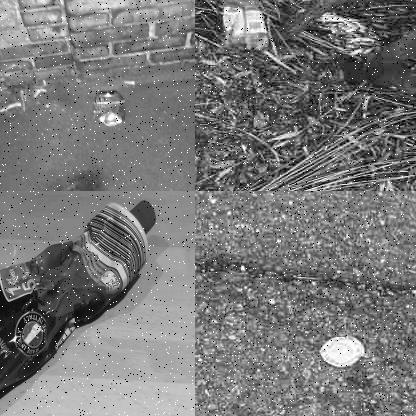metal: (93, 87, 130, 130)
plastic: (0, 197, 194, 415), (218, 0, 268, 52), (322, 336, 362, 371)
